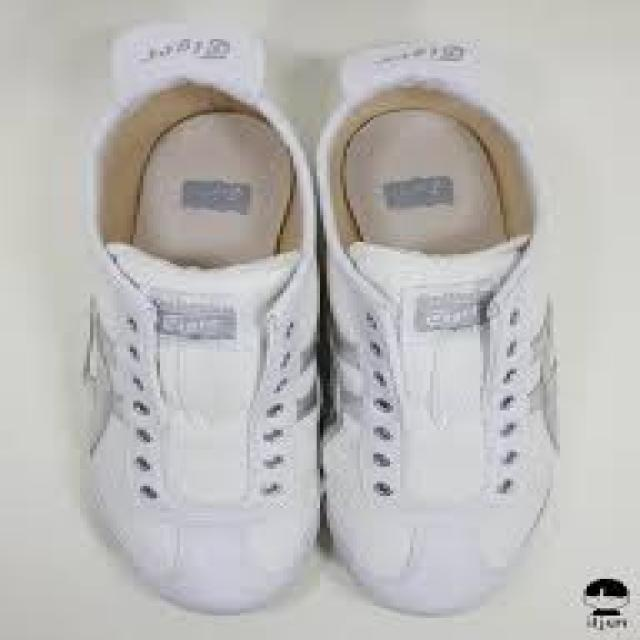shoe: (93, 22, 323, 618), (313, 61, 557, 620)
